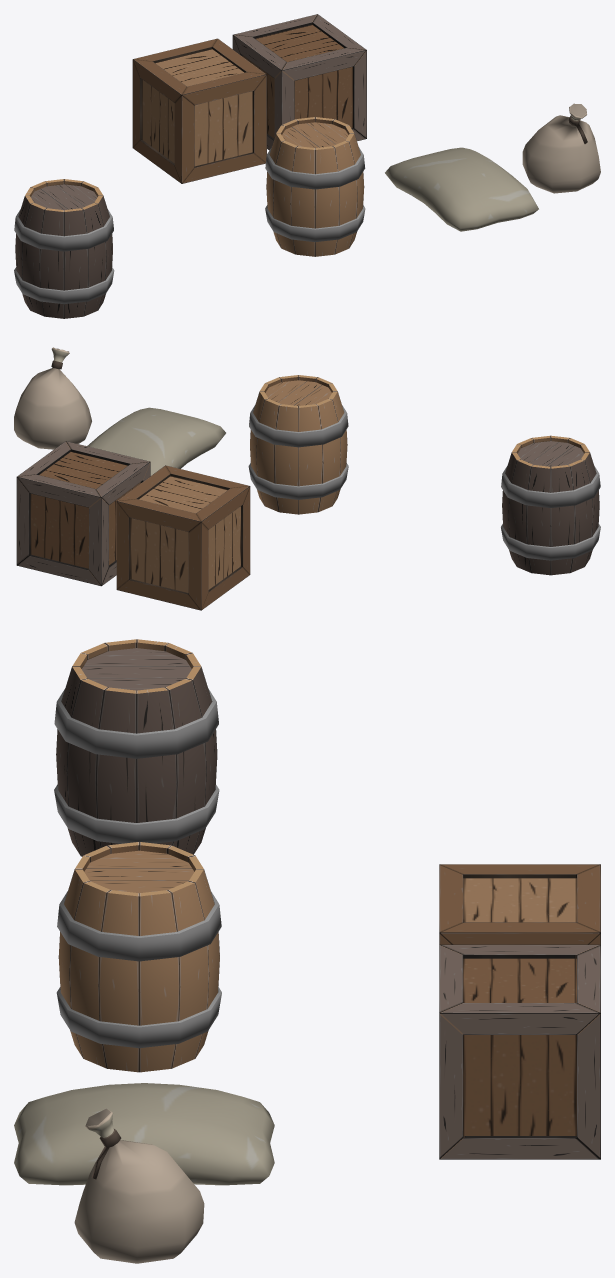
Rendered from props_barrel_01.glb.
The picture shows the model from 3 angles, top to bottom: view 1: azimuth 30°, elevation 25°; view 2: azimuth 150°, elevation 25°; view 3: azimuth 270°, elevation 25°; orthographic projection. The views are drawn at different scales.
Parts seen in each view (by area): view 1: props_crate_01, props_barrel_02, props_barrel_01, props_crate_02, props_sack_01, props_sack_02; view 2: props_crate_01, props_crate_02, props_barrel_02, props_barrel_01, props_sack_01, props_sack_02; view 3: props_crate_02, props_barrel_01, props_barrel_02, props_sack_01, props_crate_01, props_sack_02.
Part boxes in pixels (<box>): props_crate_01: <box>132,38,266,183</box>; props_barrel_02: <box>14,179,114,318</box>; props_barrel_01: <box>265,117,365,256</box>; props_crate_02: <box>232,14,366,150</box>; props_sack_01: <box>385,147,538,231</box>; props_sack_02: <box>522,103,600,193</box>; props_crate_01: <box>116,465,250,610</box>; props_crate_02: <box>16,441,150,586</box>; props_barrel_02: <box>501,435,600,575</box>; props_barrel_01: <box>248,375,348,514</box>; props_sack_01: <box>87,407,225,475</box>; props_sack_02: <box>14,347,91,449</box>; props_crate_02: <box>439,944,600,1159</box>; props_barrel_01: <box>56,842,221,1072</box>; props_barrel_02: <box>54,639,219,856</box>; props_sack_01: <box>14,1083,274,1185</box>; props_crate_01: <box>439,864,600,944</box>; props_sack_02: <box>74,1108,204,1263</box>.
Bounding box in the file's own units: 5.76 × 1.02 × 3.08.
Materials: 1 (1 with a texture image).
